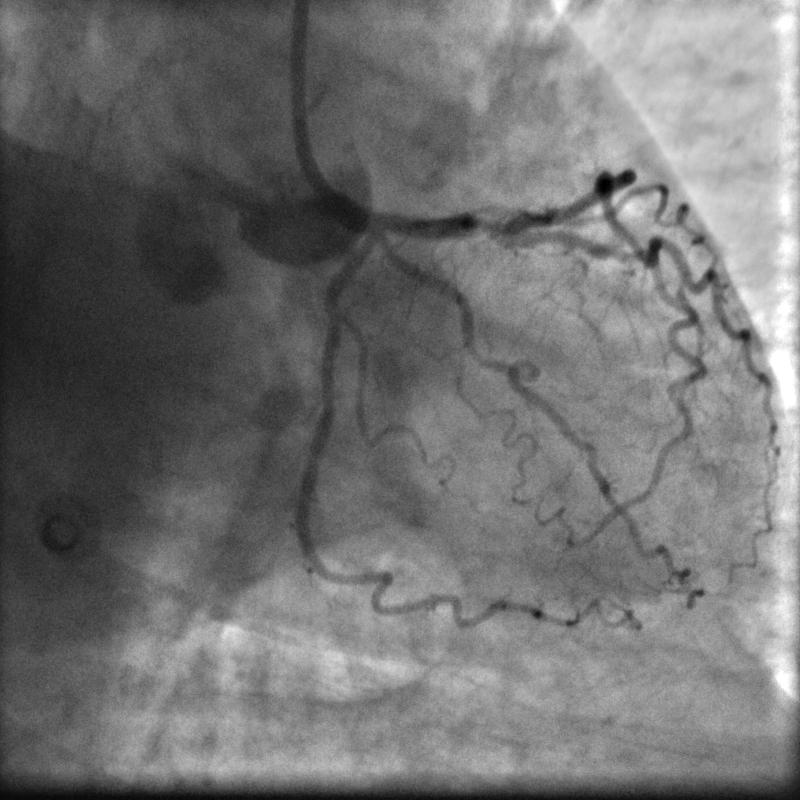Stenosis: (468, 208, 514, 245)
